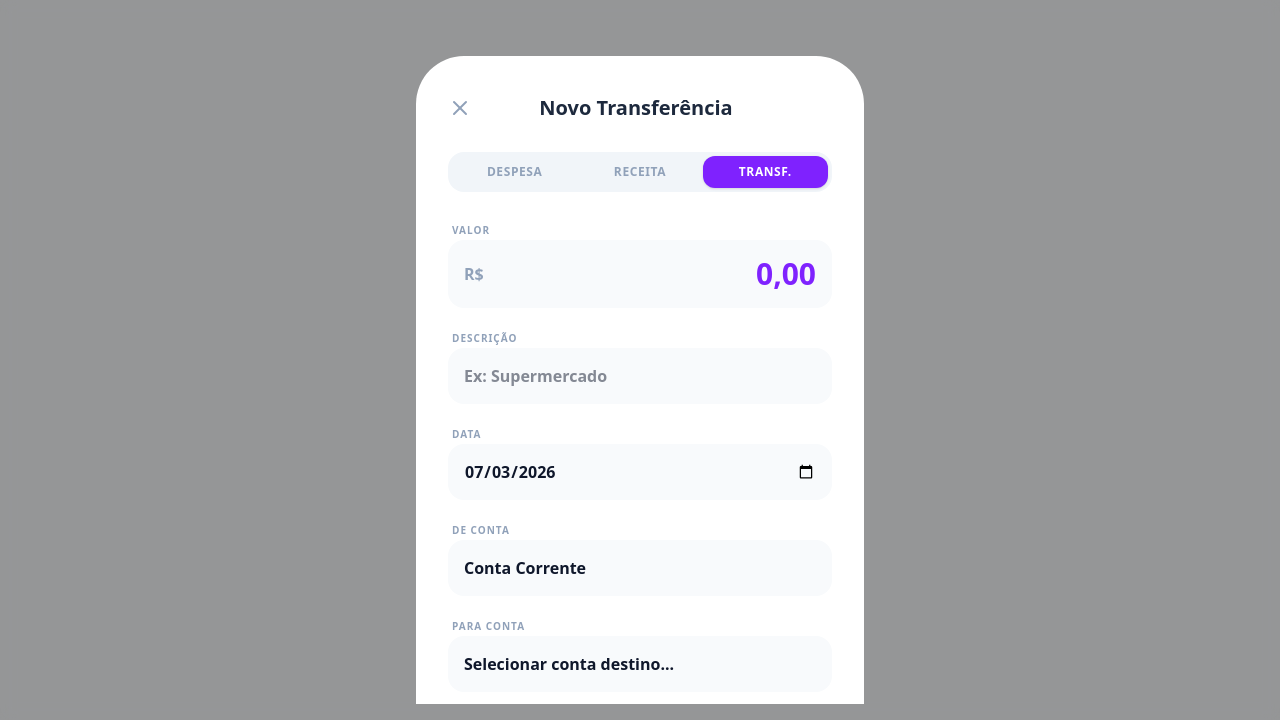
TransactionModal - Installment Total Calculation › shows total calculation for transfer type with recurrence
The width and height of the screenshot is (1280, 720).
Replace the text in the field labelled "Valor" with "30000" at (640, 274), box [448,240,832,308]
(page scrolled)
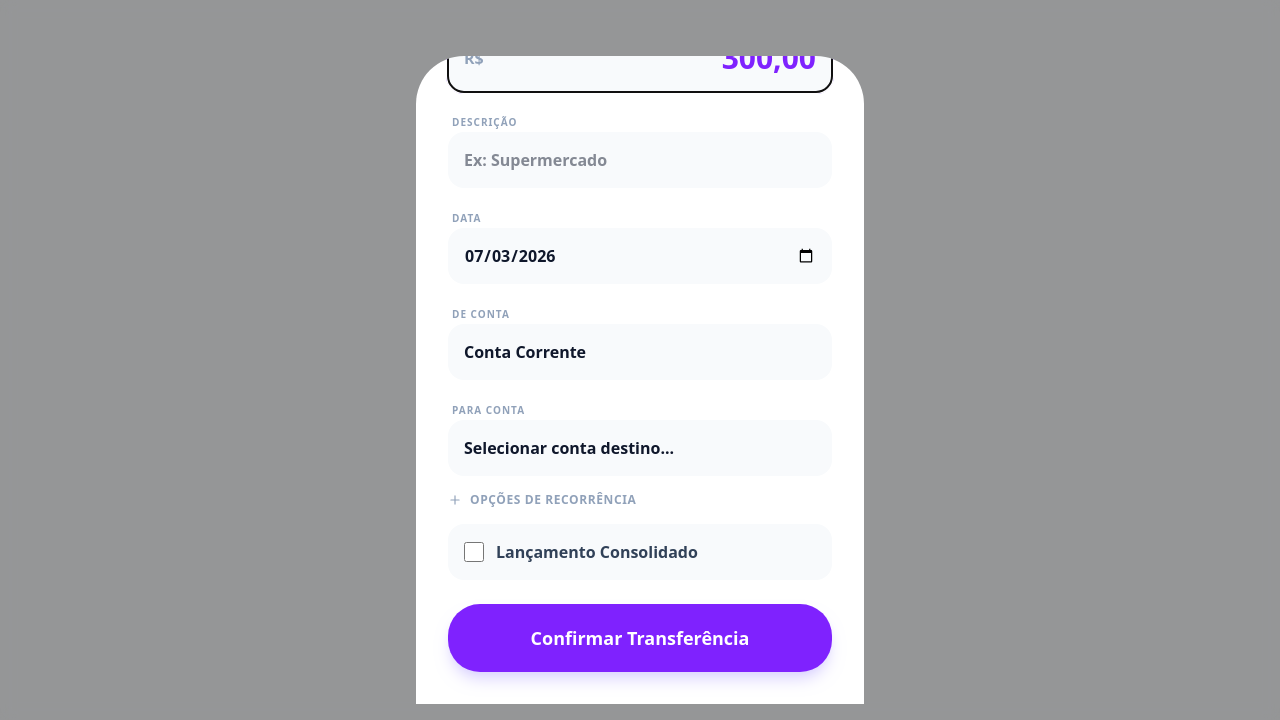
Click the button "Opções de Recorrência" at (542, 500), box [448,492,636,508]
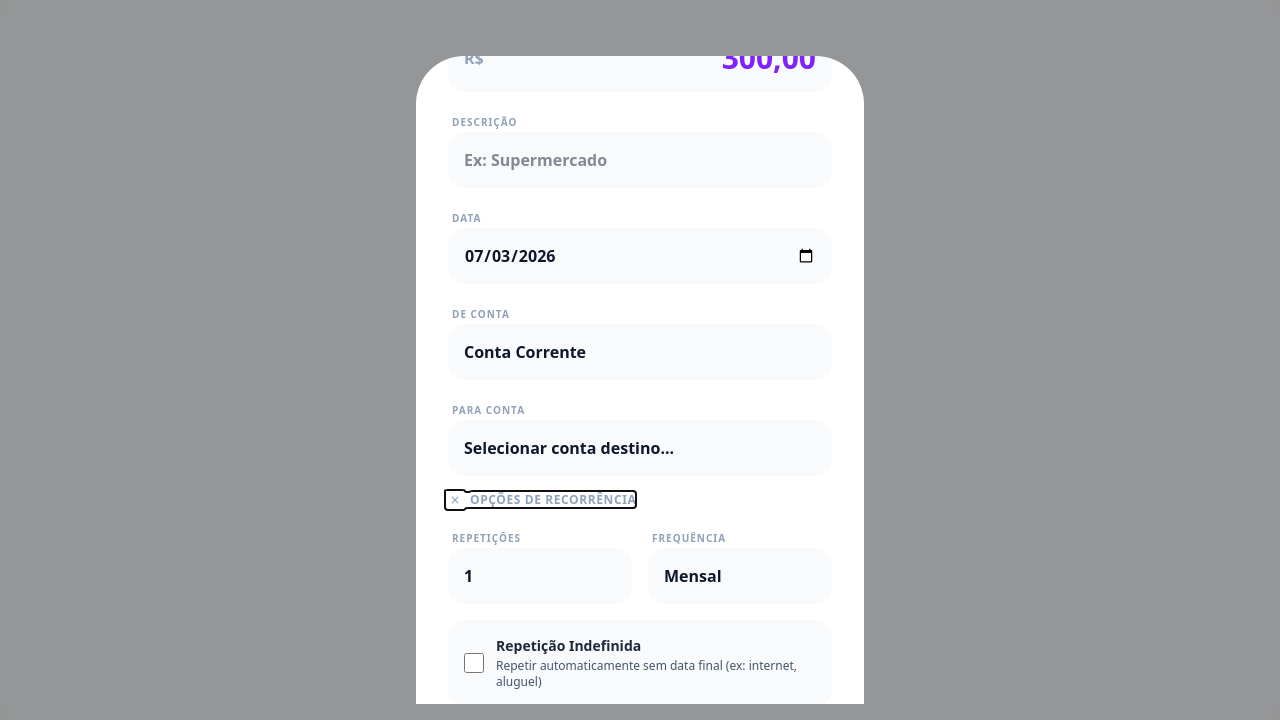
Replace the text in the number field labelled "Repetições" with "12" at (540, 576), box [448,548,632,604]
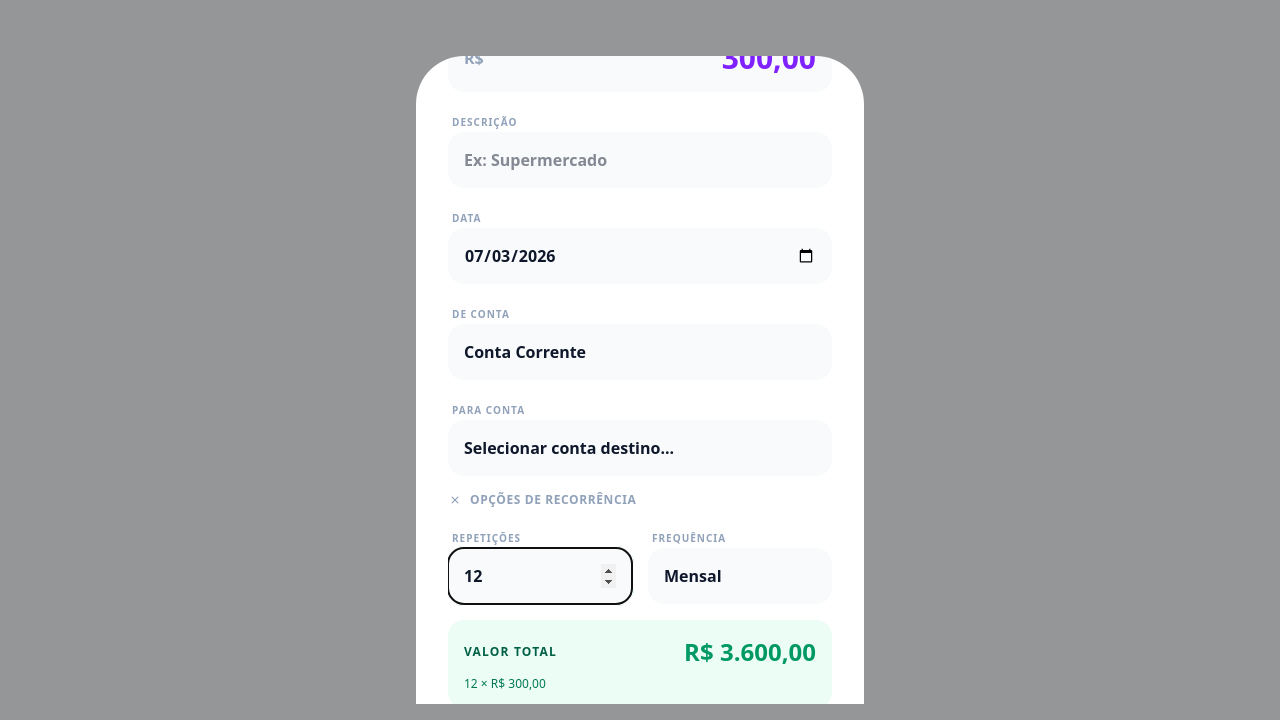
Result: the text "Valor Total" is shown at [464,644,557,660]
Result: the text "R$ 3.600,00" is shown at [684,636,816,668]
Result: the text "12 × R$ 300,00" is shown at [464,675,546,692]
